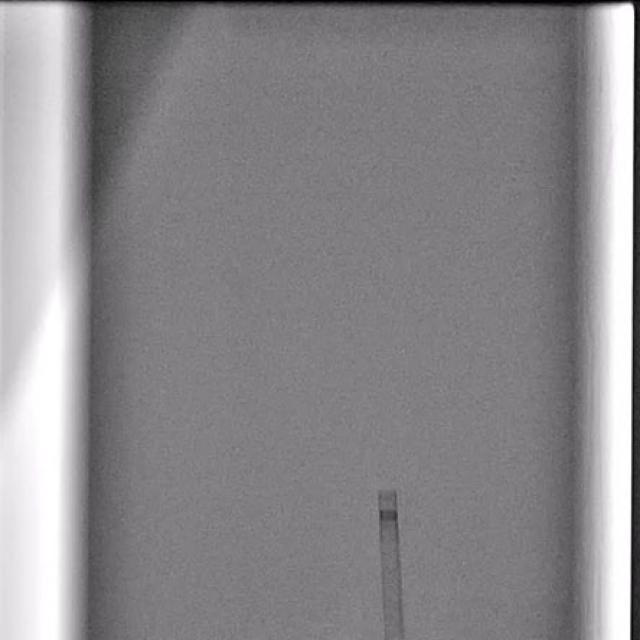entry: (386, 633, 403, 640)
marker: (379, 507, 398, 523)
tip: (378, 488, 396, 497)
